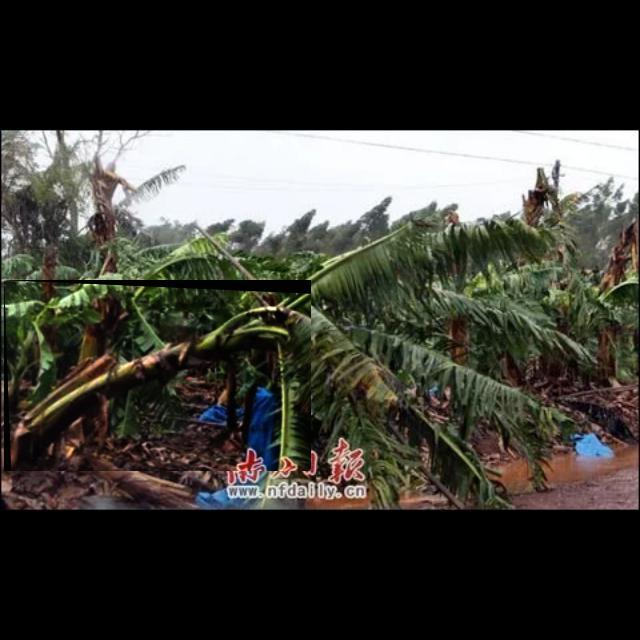fallen_tree: (4, 280, 312, 472)
